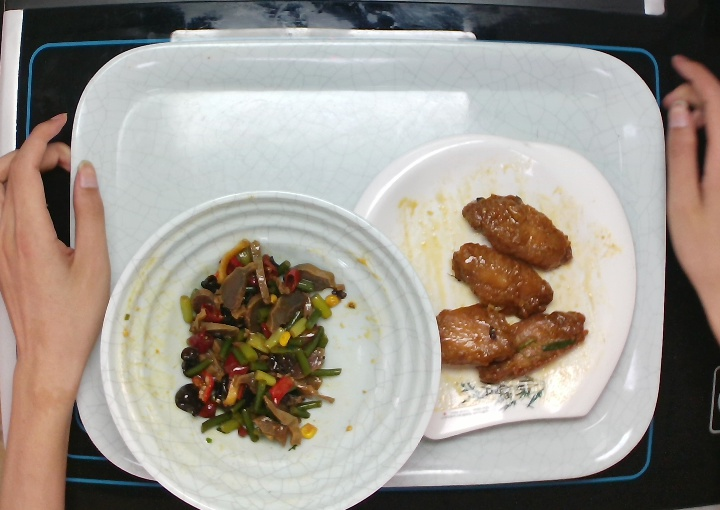JYsf-Da_Tang_Wan: (89, 183, 438, 510)
JYsf-Mian_Pan: (344, 133, 634, 440)
